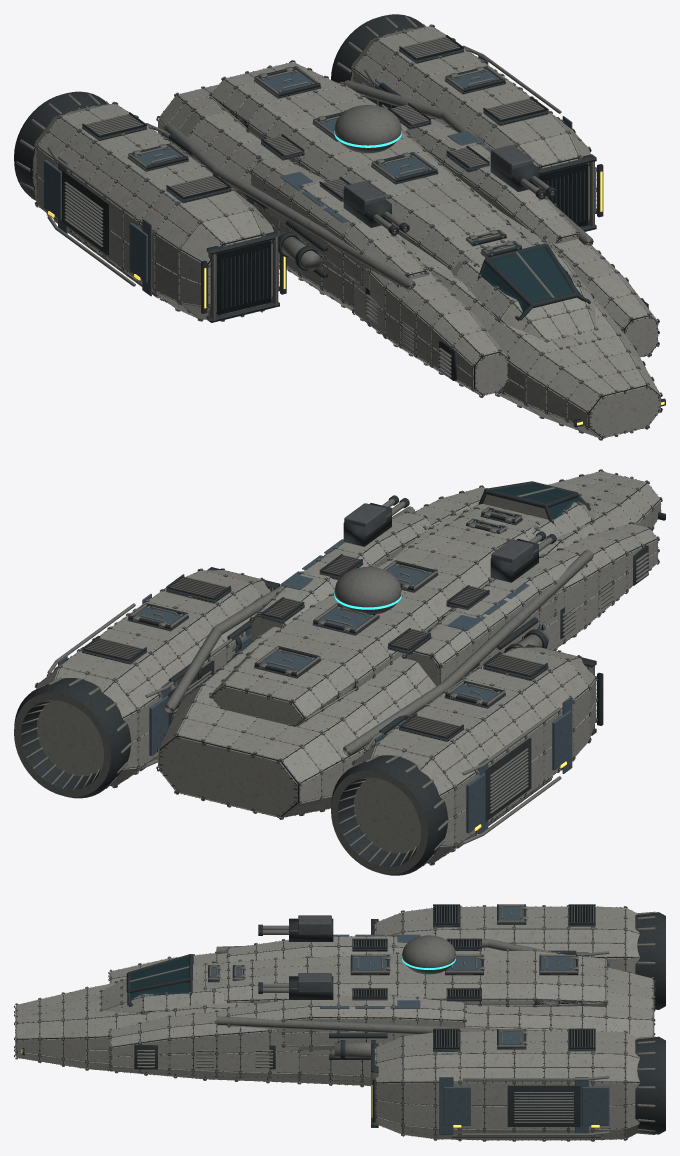
3 renders of one model, top to bottom at view 1: azimuth 30°, elevation 25°; view 2: azimuth 150°, elevation 25°; view 3: azimuth 270°, elevation 25°, orthographic. The views are drawn at different scales.
Parts seen in each view (by area): view 1: pale-steel-0, pale-steel-1, dark-structure, machined-alloy, pale-steel-2, blue-grey-1, recess-black, canopy-glass, armour-2, profiled-drive; view 2: pale-steel-0, machined-alloy, dark-structure, pale-steel-1, pale-steel-2, blue-grey-1, armour-2, canopy-glass, armoured-central-hull, profiled-drive; view 3: pale-steel-0, pale-steel-1, dark-structure, machined-alloy, pale-steel-2, blue-grey-1, recess-black, canopy-glass, profiled-drive, armour-2, raised-keel, armoured-central-hull (+2 smaller).
Part boxes in pixels (x1,y1,x2,y2): pale-steel-0: [33, 26, 659, 438]; pale-steel-1: [173, 62, 660, 418]; dark-structure: [14, 14, 665, 439]; machined-alloy: [16, 16, 662, 440]; pale-steel-2: [158, 62, 658, 438]; blue-grey-1: [43, 54, 572, 296]; recess-black: [100, 42, 588, 315]; canopy-glass: [481, 247, 583, 313]; armour-2: [344, 145, 533, 214]; profiled-drive: [38, 40, 588, 308]; pale-steel-0: [36, 475, 660, 863]; machined-alloy: [14, 469, 662, 874]; dark-structure: [14, 470, 665, 875]; pale-steel-1: [159, 471, 659, 813]; pale-steel-2: [158, 477, 643, 804]; blue-grey-1: [58, 511, 572, 834]; armour-2: [344, 503, 533, 572]; canopy-glass: [492, 483, 587, 519]; armoured-central-hull: [159, 483, 659, 816]; profiled-drive: [55, 580, 594, 845]; pale-steel-0: [15, 906, 654, 1140]; pale-steel-1: [16, 936, 652, 1084]; dark-structure: [14, 904, 665, 1140]; machined-alloy: [14, 904, 655, 1141]; pale-steel-2: [16, 936, 652, 1081]; blue-grey-1: [211, 906, 609, 1134]; recess-black: [353, 906, 594, 1046]; canopy-glass: [130, 956, 189, 1003]; profiled-drive: [377, 907, 637, 1138]; armour-2: [298, 915, 331, 992]; raised-keel: [218, 952, 605, 1006]; armoured-central-hull: [17, 974, 649, 1084].
Size of the model in its own units: 33.82 by 12.11 by 55.31.
12 materials, 9 textured.
